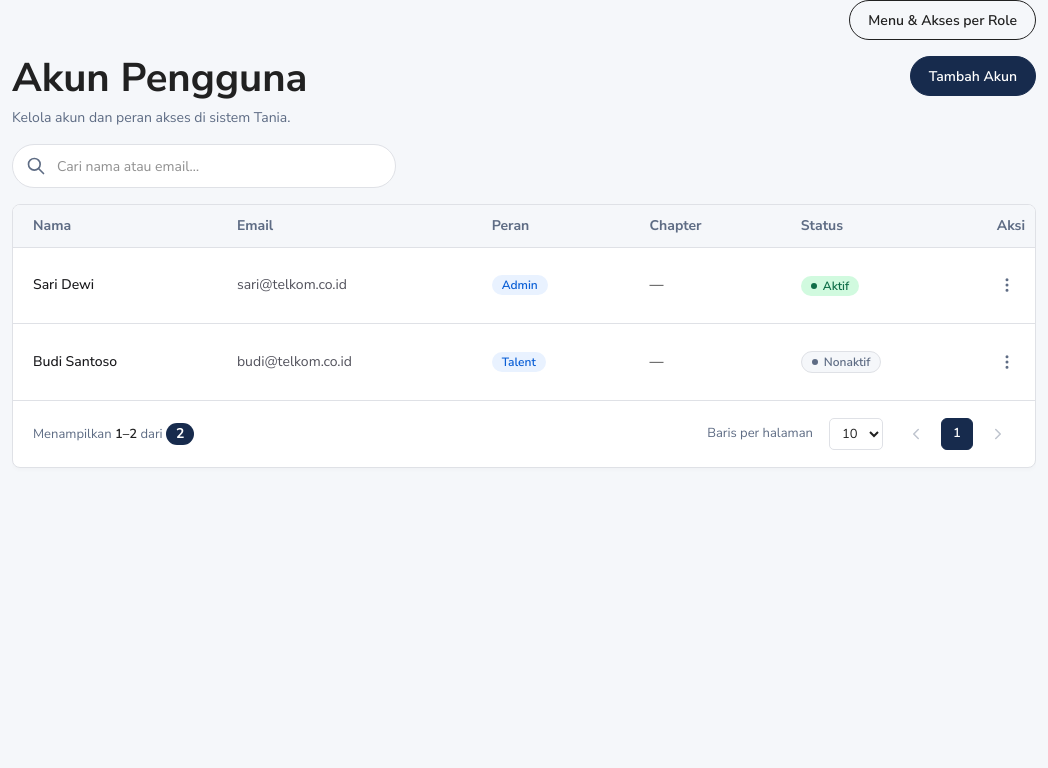
Scenario: accounts management (Admin) — T053 › changes a user's access role and reflects it in the list (scenario 8)
The width and height of the screenshot is (1048, 768).
Check: the text "Budi Santoso" is shown, box [13,324,217,400]
Click the button named "Aksi Budi Santoso": (1007, 362) [989,344,1025,380]
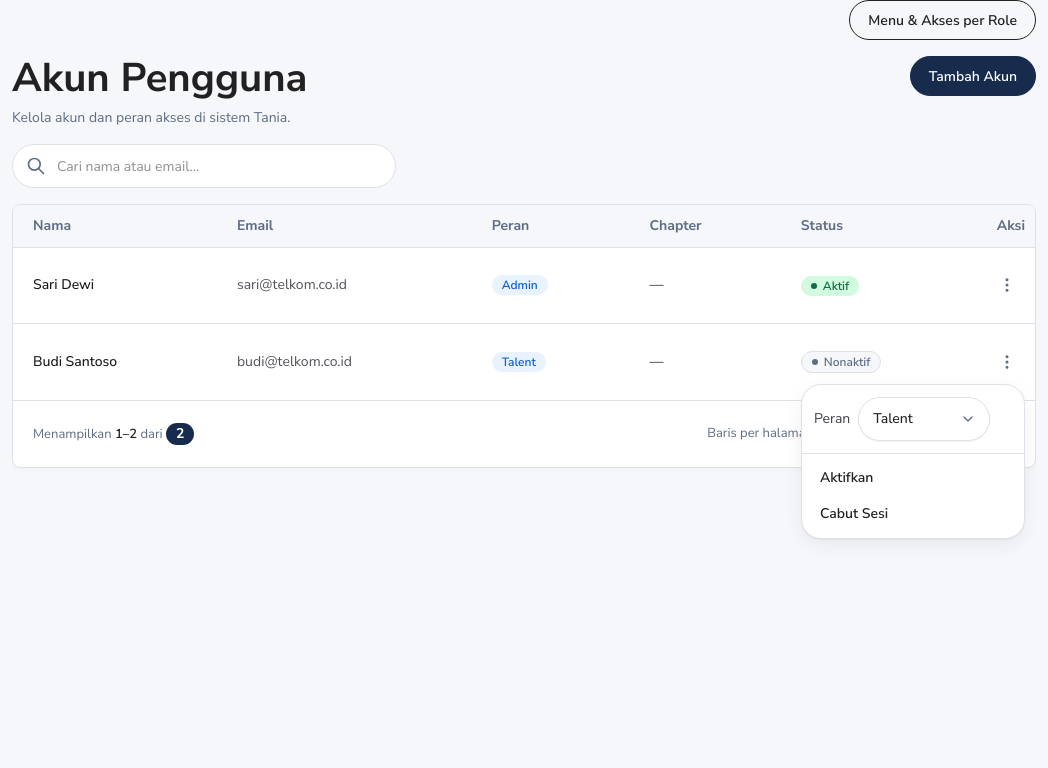
Select "Chapter" in the dropdown named "Ubah peran Budi Santoso": (924, 419) [858,397,990,441]
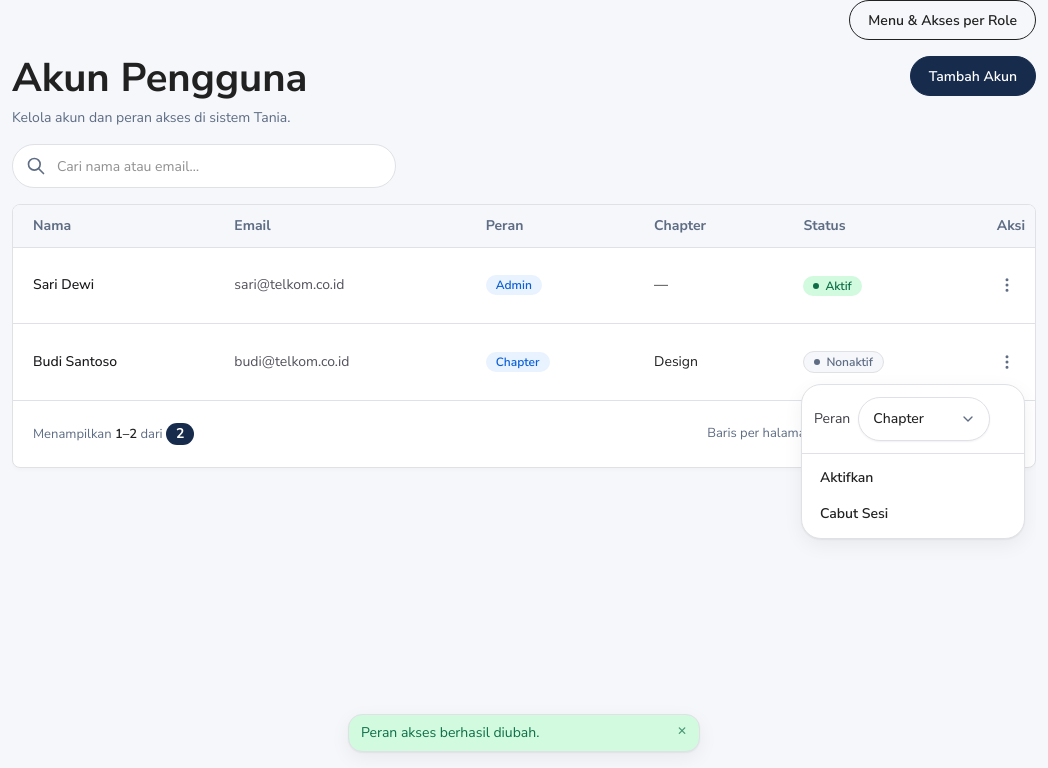
Check: the message shows "Peran akses berhasil diubah.", box [361,723,539,742]
Check: the cell "Chapter" is shown, box [466,324,634,400]
Check: the text "Design" is shown, box [634,324,783,400]
